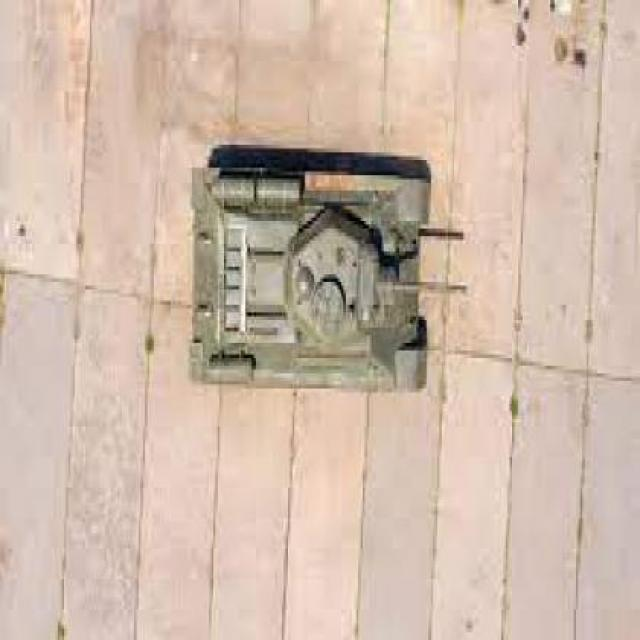Tanks: (188, 159, 470, 393)
